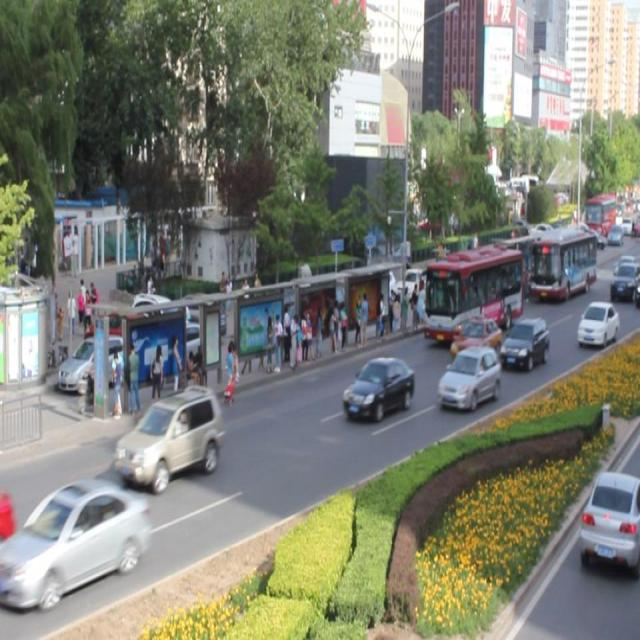car: (1, 476, 147, 604), (116, 386, 220, 485), (341, 354, 414, 418), (436, 347, 500, 408), (450, 315, 500, 363), (500, 317, 544, 363), (576, 300, 618, 345), (608, 263, 640, 300)
van: (422, 243, 521, 339), (528, 224, 594, 294)
